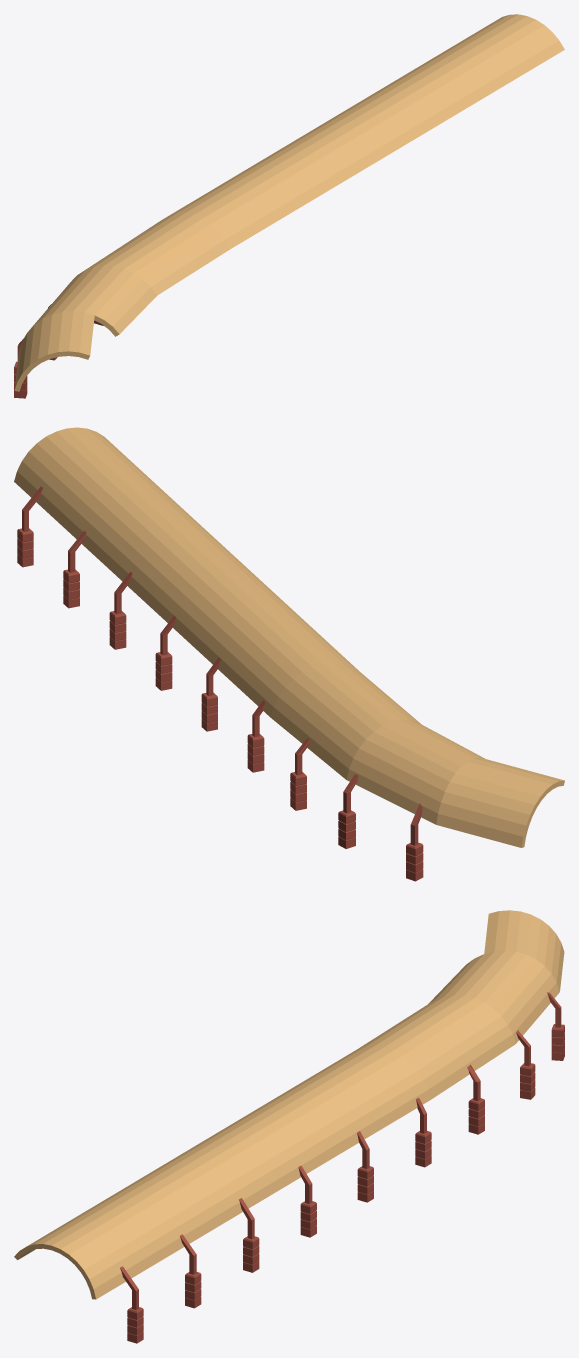
Rendered from Gonzaga_Walkway.fbx.
3 views of the same model, one above another, from view 1: azimuth 90°, elevation 25°; view 2: azimuth 150°, elevation 25°; view 3: azimuth 270°, elevation 25° (orthographic). The views are drawn at different scales.
Visible parts, largest first — view 1: Roof; view 2: Roof, Pillar, Pillar.005, Pillar.001, Pillar.008, Pillar.006, Pillar.007, Pillar.003, Pillar.004, Pillar.002; view 3: Roof, Pillar.008, Pillar.005, Pillar.007, Pillar.006, Pillar.004, Pillar.002, Pillar.003, Pillar.001, Pillar.
Boxes of the visible parts, x1,y1,x2,y2 form: Roof: (14, 14, 564, 391); Roof: (14, 427, 564, 847); Pillar: (406, 803, 423, 881); Pillar.005: (109, 572, 132, 649); Pillar.001: (338, 774, 358, 848); Pillar.008: (17, 486, 42, 567); Pillar.006: (155, 615, 176, 690); Pillar.007: (63, 530, 86, 608); Pillar.003: (247, 700, 265, 772); Pillar.004: (201, 657, 220, 731); Pillar.002: (290, 738, 309, 810); Roof: (14, 910, 564, 1299); Pillar.008: (120, 1266, 143, 1343); Pillar.005: (239, 1198, 259, 1272); Pillar.007: (180, 1234, 201, 1308); Pillar.006: (298, 1165, 316, 1237); Pillar.004: (357, 1131, 373, 1202); Pillar.002: (467, 1064, 484, 1134); Pillar.003: (415, 1097, 431, 1167); Pillar.001: (516, 1030, 535, 1099); Pillar: (547, 992, 564, 1060).
Bounding box in the file's own units: 9456 × 1214 × 6307.
